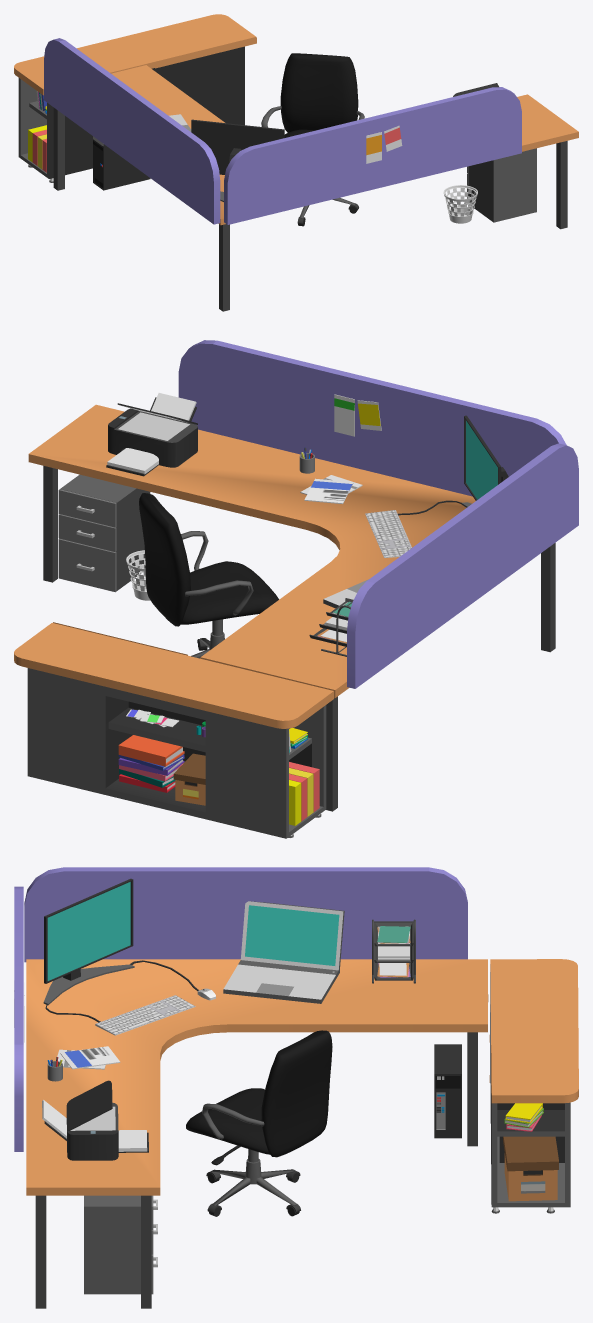
File: Escena oficina.fbx
The picture shows the model from 3 angles, top to bottom: view 1: azimuth 30°, elevation 25°; view 2: azimuth 150°, elevation 25°; view 3: azimuth 270°, elevation 25°; orthographic projection. The views are drawn at different scales.
Parts seen in each view (by area): view 1: Separador, Estante lateral, Separador.001, Mesa, Silla, Pantalla ordenador, Torre PC, Papelera, Papeles; view 2: Estante lateral, Mesa, Separador, Separador.001, Silla, Impresora, Papeles, Pantalla ordenador, Teclado, SM_Prop_CardboardBox_01.001, Archivador, Papelera; view 3: Mesa, Separador.001, Estante lateral, Silla, Portatil, Pantalla ordenador, Impresora, SM_Prop_CardboardBox_01, Archivador, Torre PC, Separador, Teclado (+1 smaller).
Boxes of the visible parts, box(x1,y1,x2,y2) form: Separador: box(224, 87, 521, 224); Estante lateral: box(14, 14, 256, 182); Separador.001: box(44, 38, 220, 224); Mesa: box(53, 65, 578, 311); Silla: box(261, 53, 364, 226); Pantalla ordenador: box(191, 119, 284, 201); Torre PC: box(93, 136, 150, 190); Papelera: box(443, 185, 477, 223); Papeles: box(366, 125, 402, 163); Estante lateral: box(14, 622, 334, 838); Mesa: box(28, 404, 555, 811); Separador: box(178, 340, 566, 496); Separador.001: box(347, 443, 578, 688); Silla: box(139, 493, 278, 658); Impresora: box(106, 393, 197, 476); Papeles: box(300, 394, 381, 504); Pantalla ordenador: box(461, 415, 508, 507); Teclado: box(365, 500, 461, 557); SM_Prop_CardboardBox_01.001: box(173, 753, 205, 805); Archivador: box(309, 598, 353, 656); Papelera: box(126, 550, 150, 600); Mesa: box(26, 959, 487, 1308); Separador.001: box(24, 867, 467, 962); Estante lateral: box(488, 959, 578, 1213); Silla: box(186, 1030, 332, 1216); Portatil: box(223, 901, 344, 1003); Pantalla ordenador: box(43, 878, 134, 1005); Impresora: box(42, 1080, 148, 1160); SM_Prop_CardboardBox_01: box(503, 1136, 558, 1201); Archivador: box(372, 919, 415, 983); Torre PC: box(434, 1044, 461, 1138); Separador: box(14, 886, 23, 1151); Teclado: box(45, 995, 195, 1035).
Size of the model in its own units: 389 by 166 by 398.
